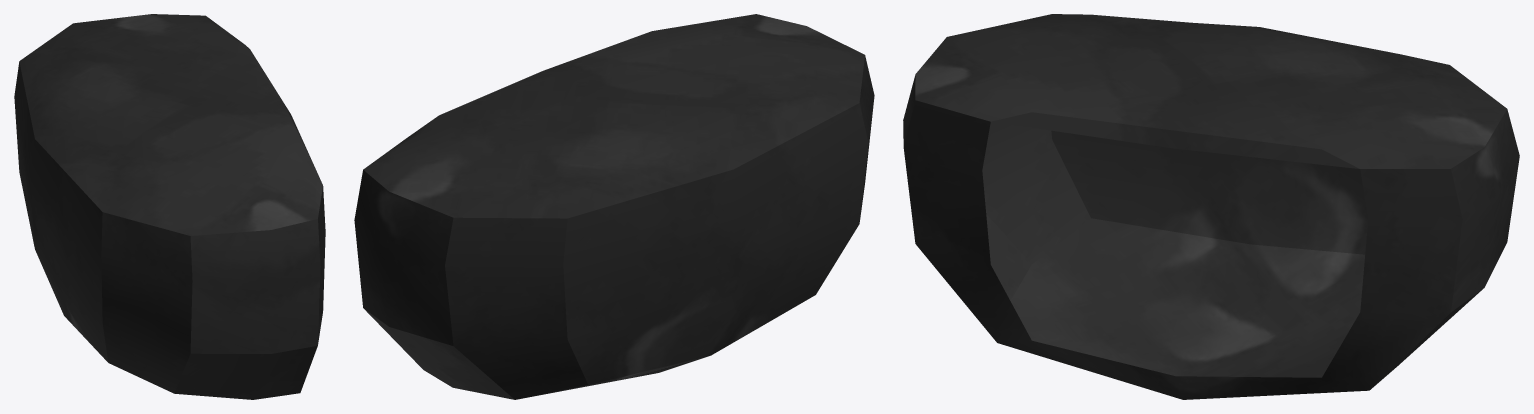
Rendered from Underwater_platform_1.fbx.
The picture shows the model from 3 angles, left to right: view 1: azimuth 30°, elevation 25°; view 2: azimuth 150°, elevation 25°; view 3: azimuth 270°, elevation 25°; orthographic projection. The views are drawn at different scales.
Parts seen in each view (by area): view 1: Underwater_platform_1; view 2: Underwater_platform_1; view 3: Underwater_platform_1.
Part boxes in pixels (bbox=[...]): Underwater_platform_1: bbox=[14, 14, 325, 399]; Underwater_platform_1: bbox=[354, 14, 874, 399]; Underwater_platform_1: bbox=[903, 14, 1519, 399].
Bounding box in the file's own units: 297 × 248 × 489.
